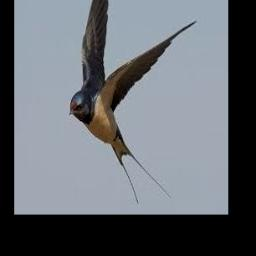Swallow: (69, 0, 198, 203)
